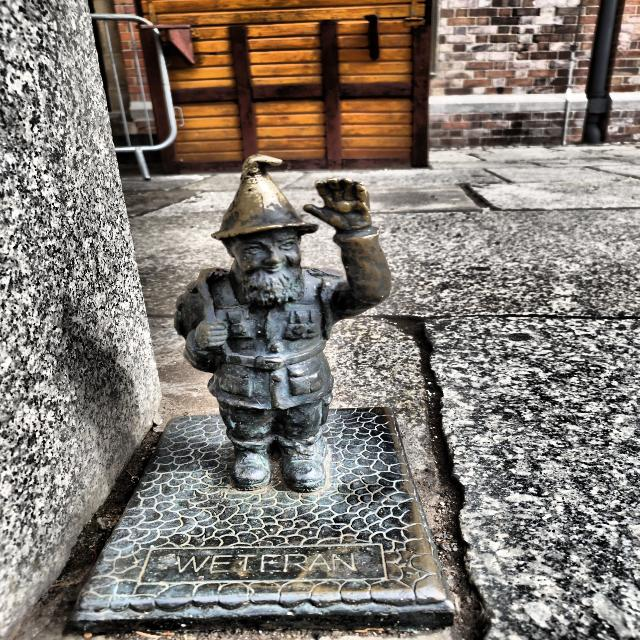Weteran: (175, 154, 390, 492)
